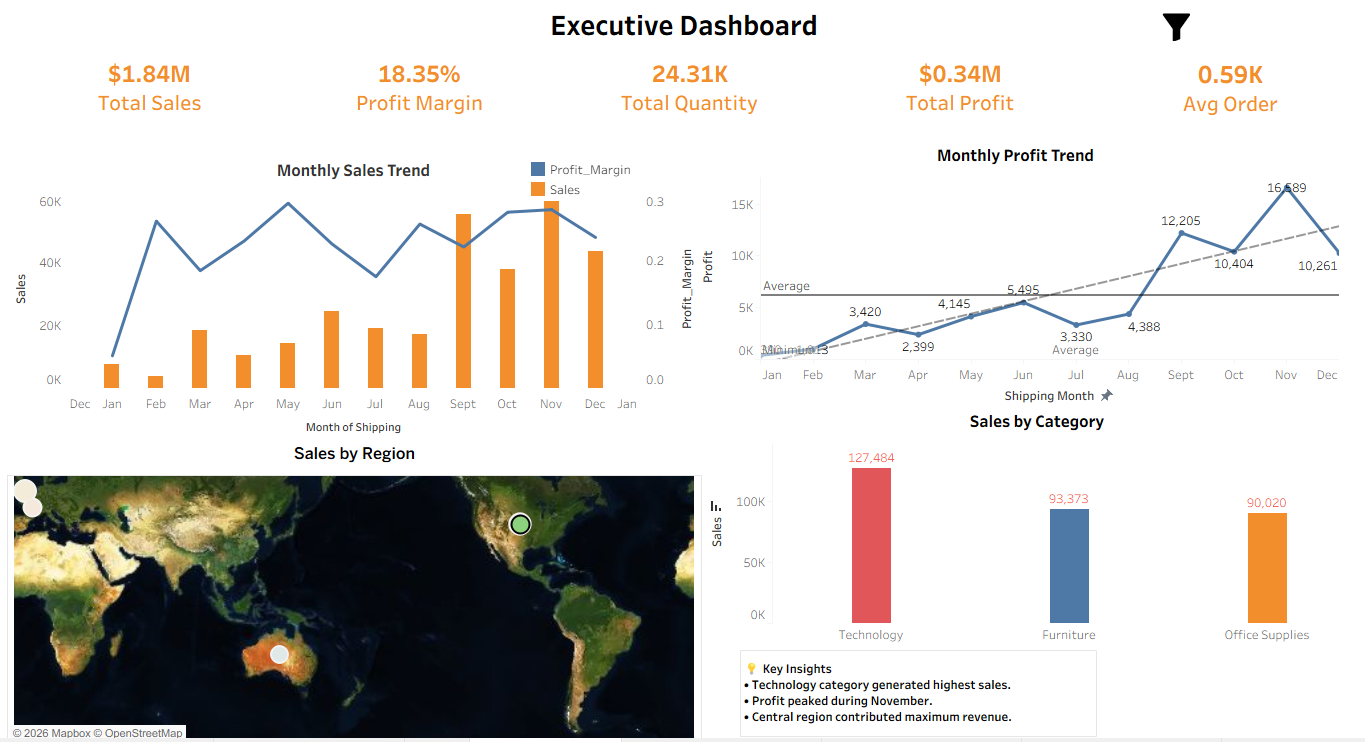

This screenshot's page, from the dashboard's own definition file:
{"tool":"tableau","page":{"name":"Executive Dashboard","canvas":[1000,1000],"units":"permille","ordinal":1},"visuals":[{"type":"text","box":[3.4,5.1,994,54.8]},{"type":"dashboard-object","box":[850.8,12,20.6,49.7]},{"type":"text","box":[863.8,24.4,118,68.5]},{"type":"worksheet","title":"KPI - 1","mark":"Automatic","cols":["Calculation_1365049004838918","Calculation_1365049004855304","Calculation_1365049004904459","Calculation_1365049004916749","Calculation_1365049004929039"],"box":[11.2,73.6,988.9,90.8]},{"type":"filter","title":"Monthly Sales Trend","param":"[federated.1ncq3b51rtat471ezg2cc1oqcfu0].[yr:Ship Date:ok]","box":[863.8,92.8,118,99.3]},{"type":"worksheet","title":"Profit Trend","mark":"Automatic","rows":["Profit"],"cols":["Ship Date"],"box":[506.9,190.1,473.4,357.9]},{"type":"filter","title":"Monthly Sales Trend","param":"[federated.1ncq3b51rtat471ezg2cc1oqcfu0].[none:Region:nk]","box":[863.8,192.2,118,99.3]},{"type":"worksheet","title":"Monthly Sales Trend","mark":"Automatic","rows":["Sales","Calculation_0082193476780034"],"cols":["Ship Date"],"box":[3.4,210.6,510.3,387]},{"type":"legend","title":"Monthly Sales Trend","param":"[federated.1ncq3b51rtat471ezg2cc1oqcfu0].[:Measure Names]","box":[386.2,215.1,104.5,92.5]},{"type":"filter","title":"Monthly Sales Trend","param":"[federated.1ncq3b51rtat471ezg2cc1oqcfu0].[none:Category:nk]","box":[863.8,291.5,118,188.4]},{"type":"filter","title":"Monthly Sales Trend","param":"[federated.1ncq3b51rtat471ezg2cc1oqcfu0].[none:Segment:nk]","box":[863.8,479.8,118,195.2]},{"type":"worksheet","title":"Sales by Category","mark":"Automatic","rows":["Sales"],"cols":["Category"],"box":[518,549.7,482,330.5]},{"type":"filter","title":"Monthly Sales Trend","param":"[federated.1ncq3b51rtat471ezg2cc1oqcfu0].[none:Ship Mode:nk]","box":[863.8,675.1,118,89]},{"type":"text","box":[542,880.1,261.6,118.2]}]}

Visuals, with their boxes on the dashboard's canvas, which has no fixed pixel size, in thousandths of its width and height (x1, y1, x2, y2). These are canvas units, not pixel positions in the 1365x742 screenshot, which may show the page scaled, cropped or inside an application window:
text: 3/5/997/60
dashboard-object: 851/12/871/62
text: 864/24/982/93
"KPI - 1" worksheet: 11/74/1000/164
"Monthly Sales Trend" filter: 864/93/982/192
"Profit Trend" worksheet: 507/190/980/548
"Monthly Sales Trend" filter: 864/192/982/292
"Monthly Sales Trend" worksheet: 3/211/514/598
"Monthly Sales Trend" legend: 386/215/491/308
"Monthly Sales Trend" filter: 864/292/982/480
"Monthly Sales Trend" filter: 864/480/982/675
"Sales by Category" worksheet: 518/550/1000/880
"Monthly Sales Trend" filter: 864/675/982/764
text: 542/880/804/998
